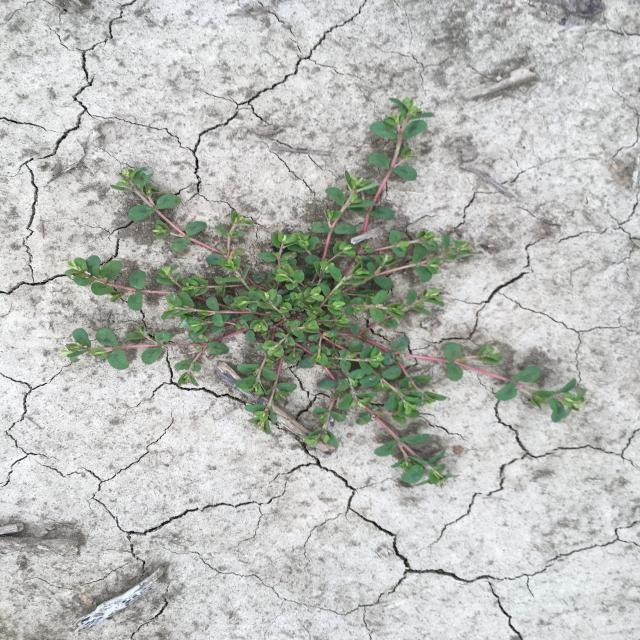SpottedSpurge: (61, 97, 586, 486)
